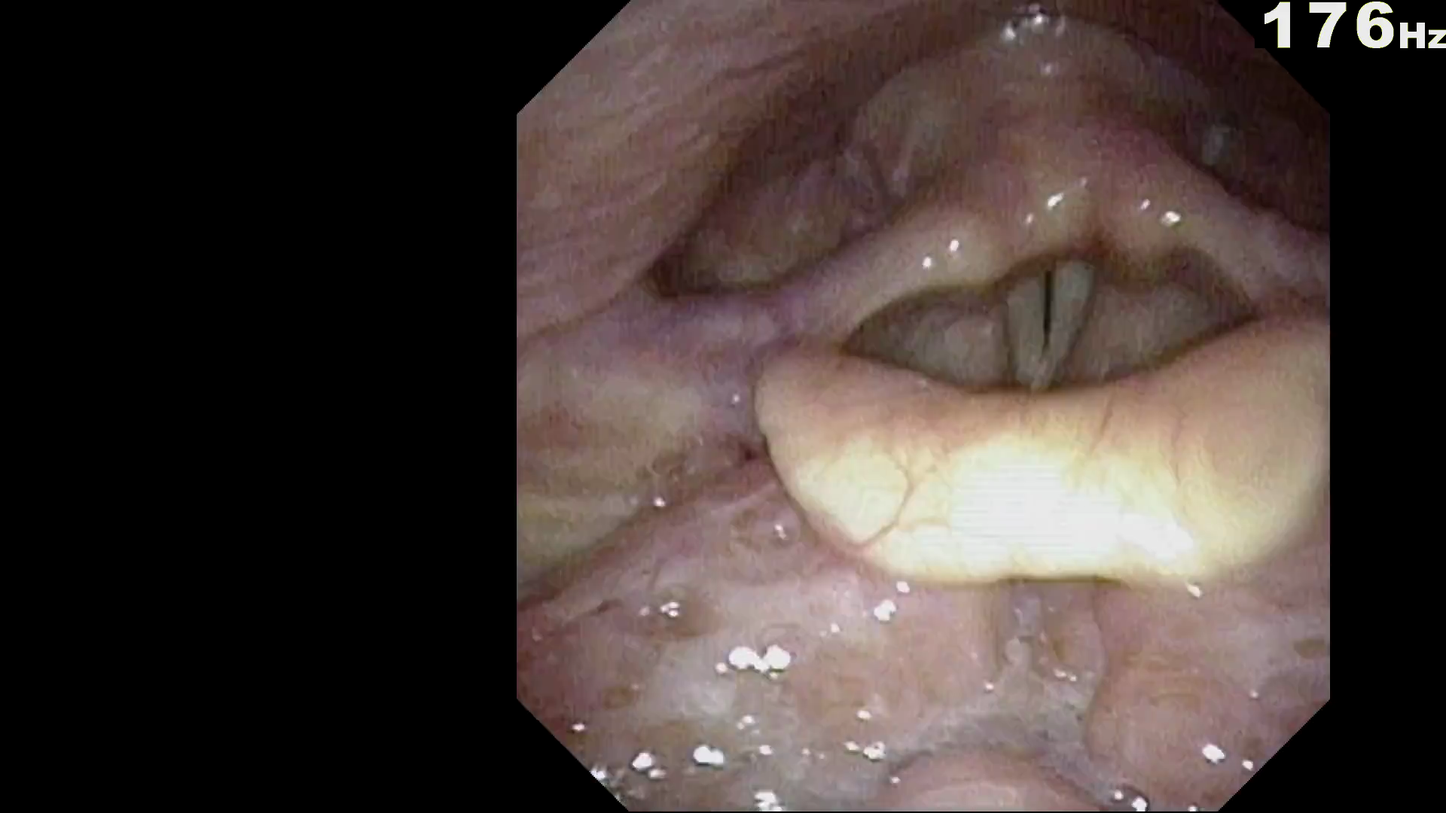epiglottis: (755, 311, 1315, 580)
trachea: (985, 245, 1131, 400)
